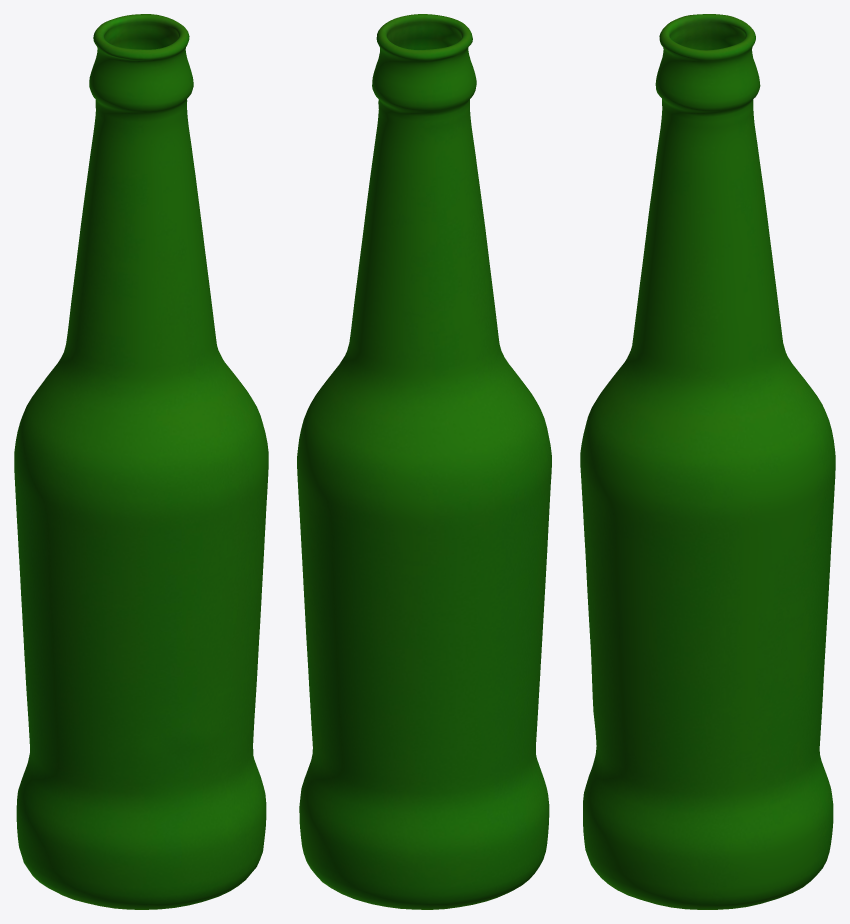
File: green+glass+bottle+3d+model.fbx
3 renders of one model, left to right at view 1: azimuth 30°, elevation 25°; view 2: azimuth 150°, elevation 25°; view 3: azimuth 270°, elevation 25°, orthographic.
Visible parts, largest first — view 1: tripo_node_77860d9f; view 2: tripo_node_77860d9f; view 3: tripo_node_77860d9f.
Part boxes in pixels (x1,y1,x2,y2): tripo_node_77860d9f: (14, 14, 268, 909); tripo_node_77860d9f: (297, 14, 551, 909); tripo_node_77860d9f: (580, 14, 835, 909).
Size of the model in its own units: 0.276 by 0.9996 by 0.2766.
Materials: 1 (1 with a texture image).
